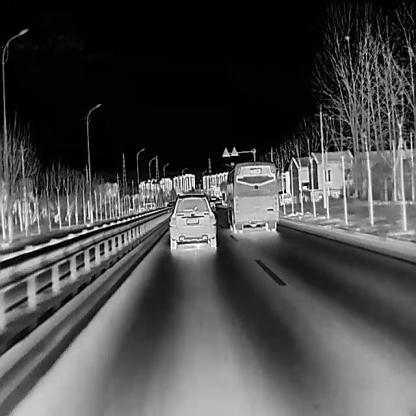bus: (220, 160, 278, 232)
car: (167, 192, 217, 250)
